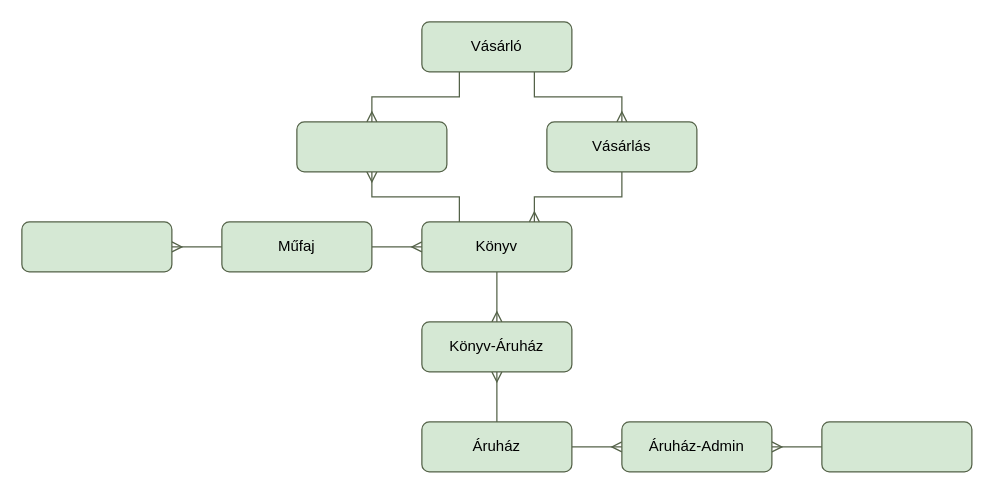
Image size: 994x494. Some labels were removed from this diagram. The box of each missing label's shape, as (x1, y1, x2, y2) in pixels:
Admin: (821, 421, 972, 472)
Alműfaj: (21, 221, 172, 272)
Vásárló-Könyv: (296, 121, 447, 172)
